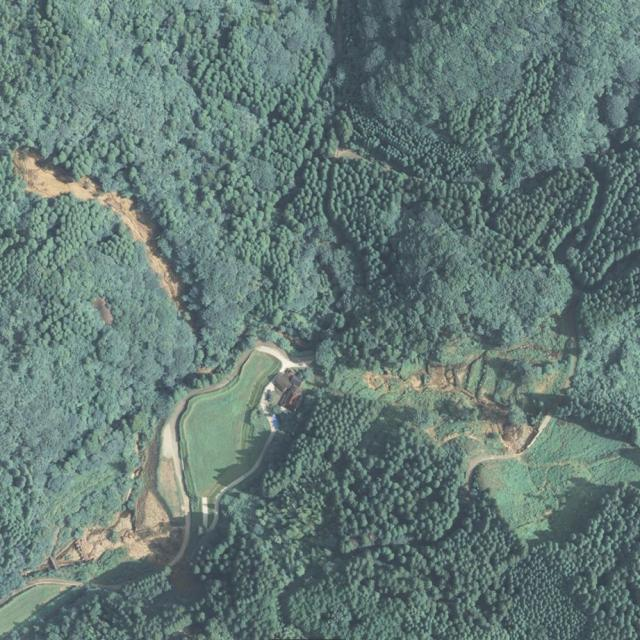landslide: (13, 152, 179, 310), (37, 439, 172, 571)
